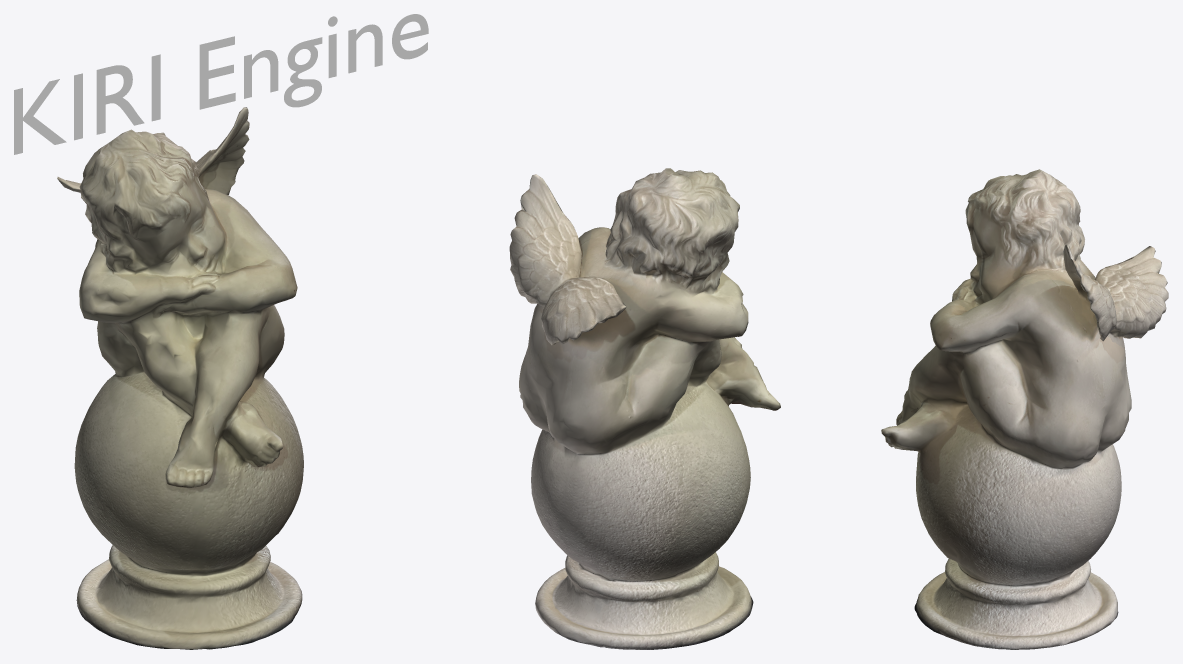
3 views of the same model, side by side, from view 1: azimuth 30°, elevation 25°; view 2: azimuth 150°, elevation 25°; view 3: azimuth 270°, elevation 25° (orthographic). The views are drawn at different scales.
Visible parts, largest first — view 1: 3DModel_LowPoly, Text; view 2: 3DModel_LowPoly; view 3: 3DModel_LowPoly.
Part boxes in pixels (left/top/right/bottom): 3DModel_LowPoly: left=57, top=107, right=303, bottom=649; Text: left=14, top=14, right=428, bottom=154; 3DModel_LowPoly: left=509, top=168, right=780, bottom=649; 3DModel_LowPoly: left=881, top=169, right=1168, bottom=649.
Size of the model in its own units: 3.79 by 5.03 by 2.58.
Materials: 1 (1 with a texture image).
